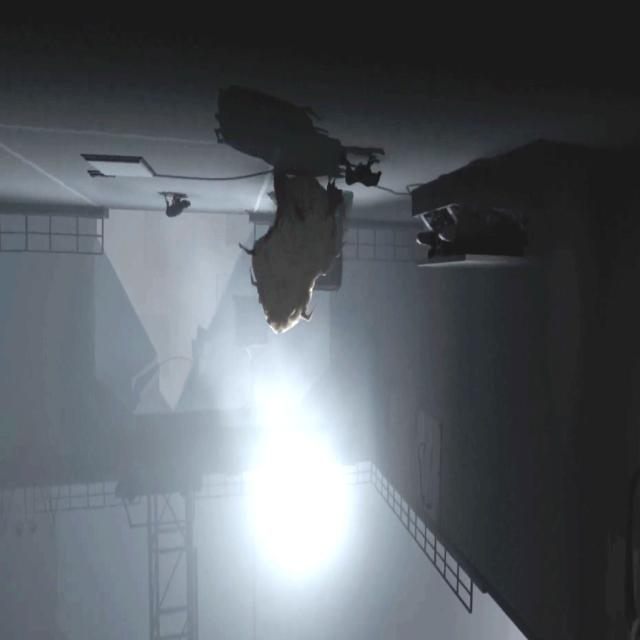blob: (241, 164, 347, 325)
dog: (341, 155, 382, 189), (164, 195, 189, 217), (327, 176, 336, 195)
mechanism: (412, 165, 534, 266)
structure: (369, 464, 473, 614), (149, 491, 199, 640), (202, 464, 372, 500), (0, 216, 105, 256), (34, 483, 148, 516), (342, 226, 422, 263), (0, 483, 5, 518)
